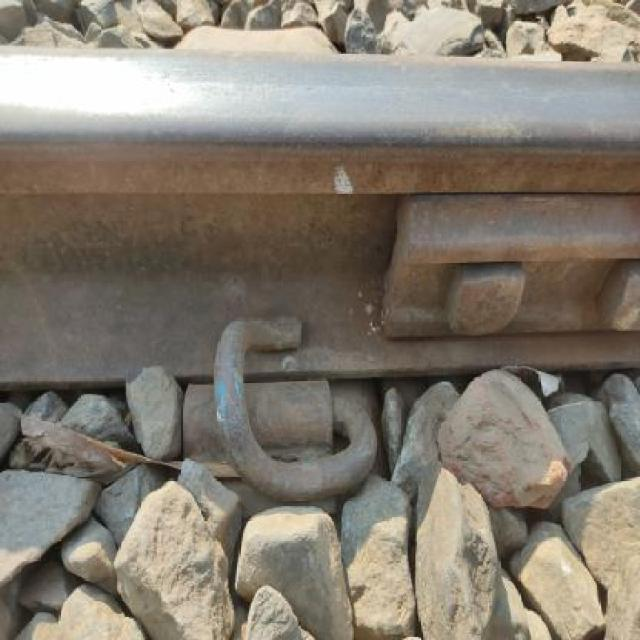non-defective: (4, 28, 640, 440)
